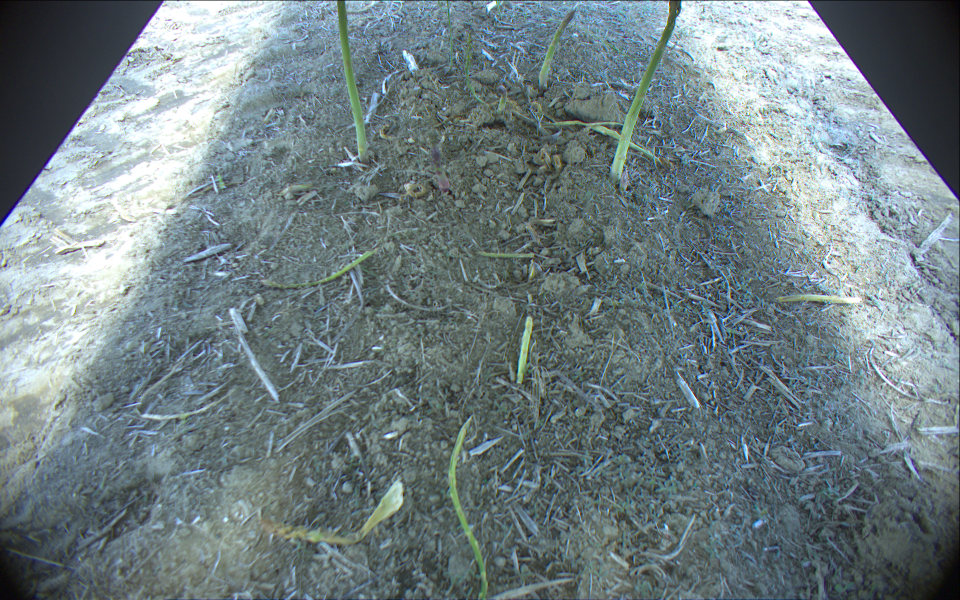aspa: (610, 1, 677, 179), (262, 479, 404, 542), (447, 413, 491, 600), (334, 1, 368, 164), (258, 251, 375, 290), (538, 9, 577, 90), (590, 127, 664, 167), (464, 31, 491, 105), (773, 292, 868, 308), (514, 314, 534, 388), (430, 145, 452, 195), (543, 121, 641, 130), (443, 1, 452, 68), (470, 251, 536, 259), (494, 83, 509, 114)
